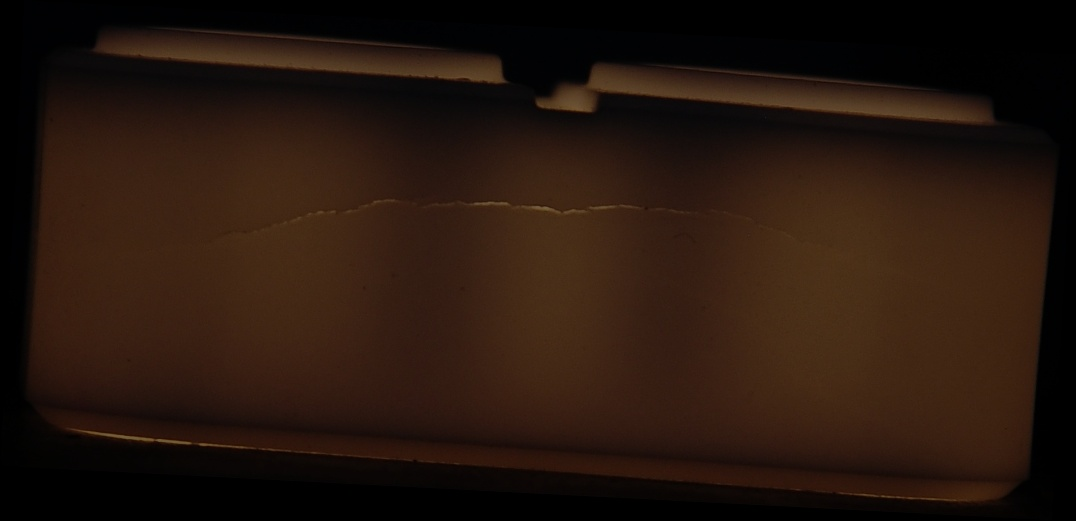flaw: (143, 188, 948, 299)
